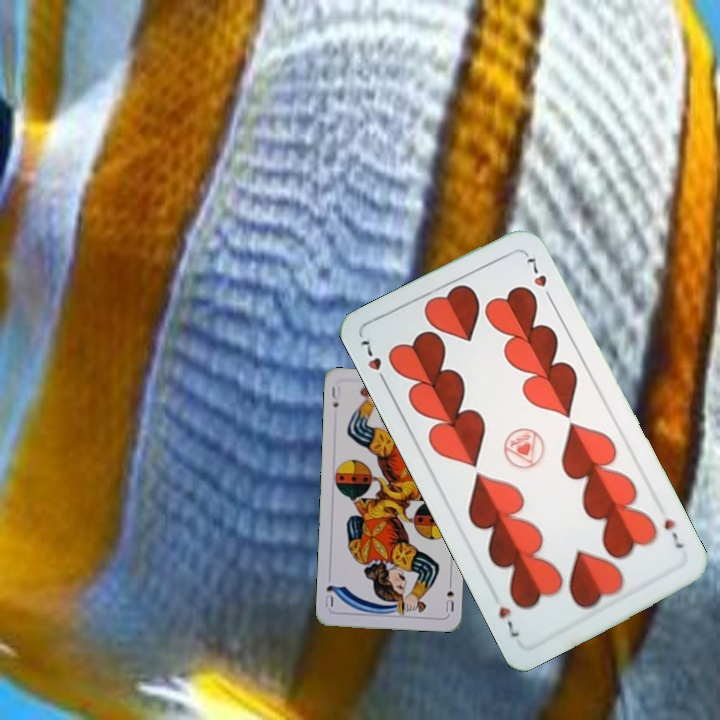H7: (357, 336, 391, 389), (659, 515, 686, 552)
SU: (441, 575, 457, 615), (327, 382, 343, 410)
